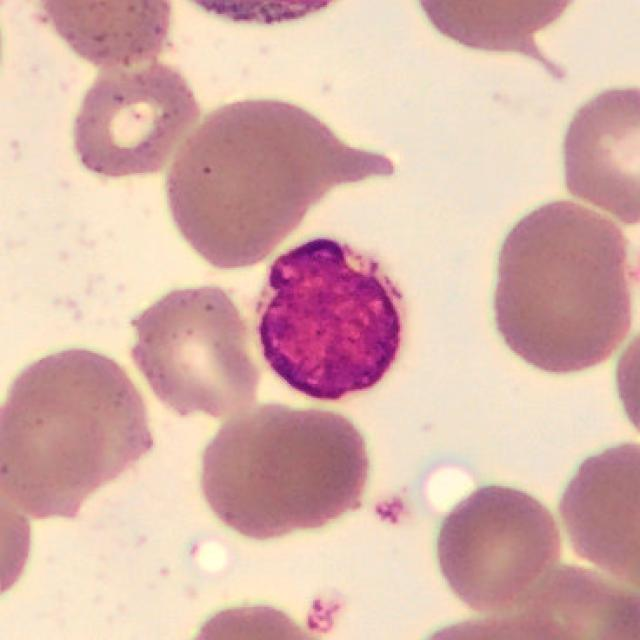Linfocito: (257, 239, 407, 403)
